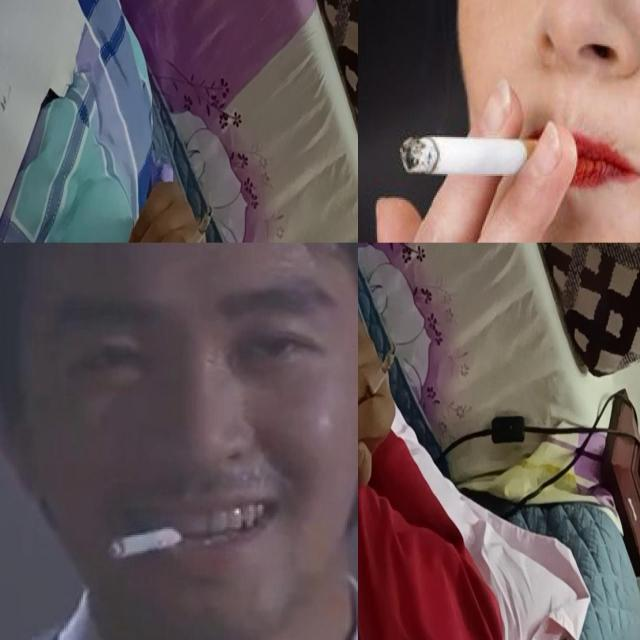smoking: (398, 130, 538, 176), (106, 520, 194, 560), (362, 352, 394, 404), (181, 206, 213, 242)
